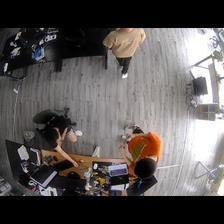normal: (31, 114, 85, 169), (102, 27, 151, 80), (120, 125, 164, 175)
